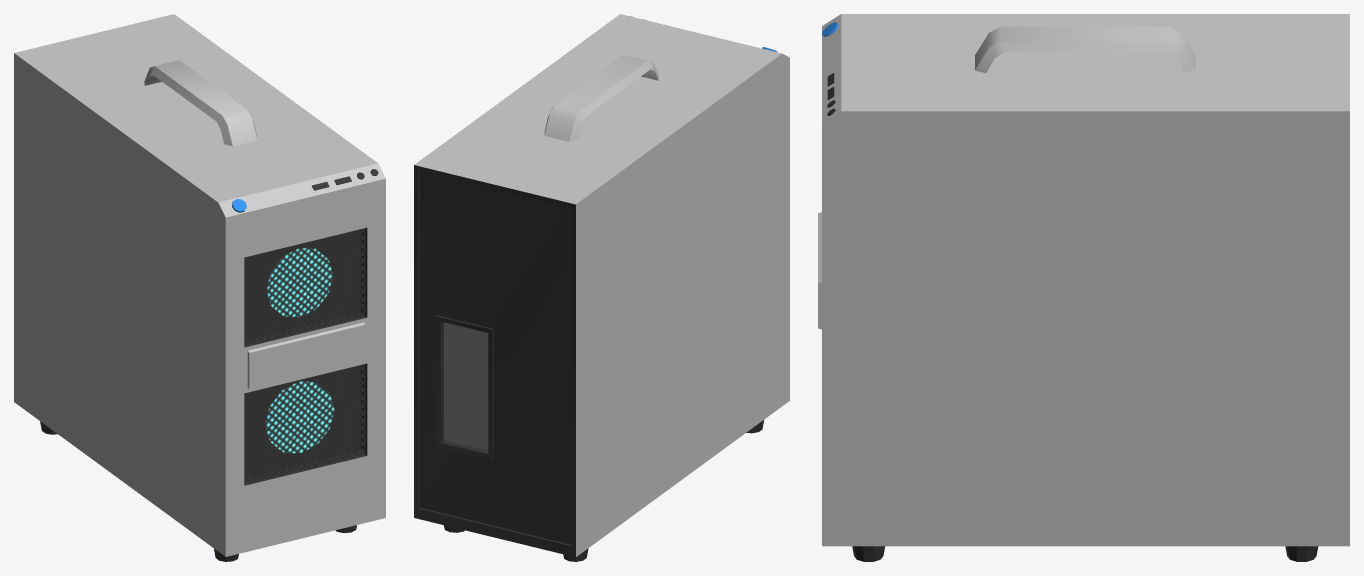
Rendered from computer_3.glb.
3 views of the same model, side by side, from view 1: azimuth 30°, elevation 25°; view 2: azimuth 150°, elevation 25°; view 3: azimuth 270°, elevation 25° (orthographic). The views are drawn at different scales.
Visible parts, largest first — view 1: PC Case 7; view 2: PC Case 7; view 3: PC Case 7.
Boxes of the visible parts, <box> form: PC Case 7: <box>14,14,385,561</box>; PC Case 7: <box>414,14,789,561</box>; PC Case 7: <box>818,14,1349,561</box>.
Bounding box in the file's own units: 0.2107 × 0.4912 × 0.4861.
3 materials, 2 textured.
